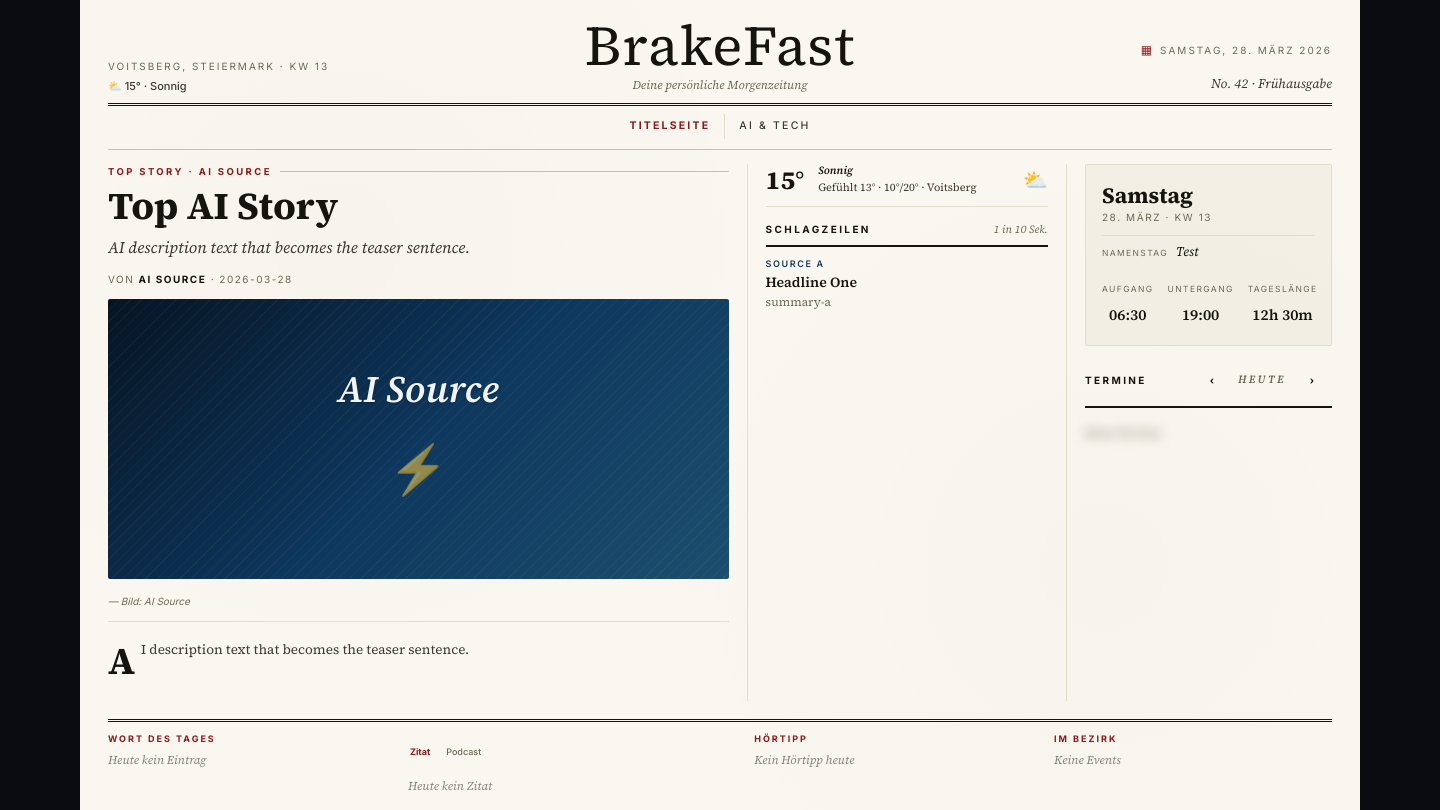
Test: EditorialFirstScreen › opens weather modal and closes on overlay click (PAR-03)
Step 1. Click the button with class "ed-weather-row" → (907, 186), box [766,164,1048,207]
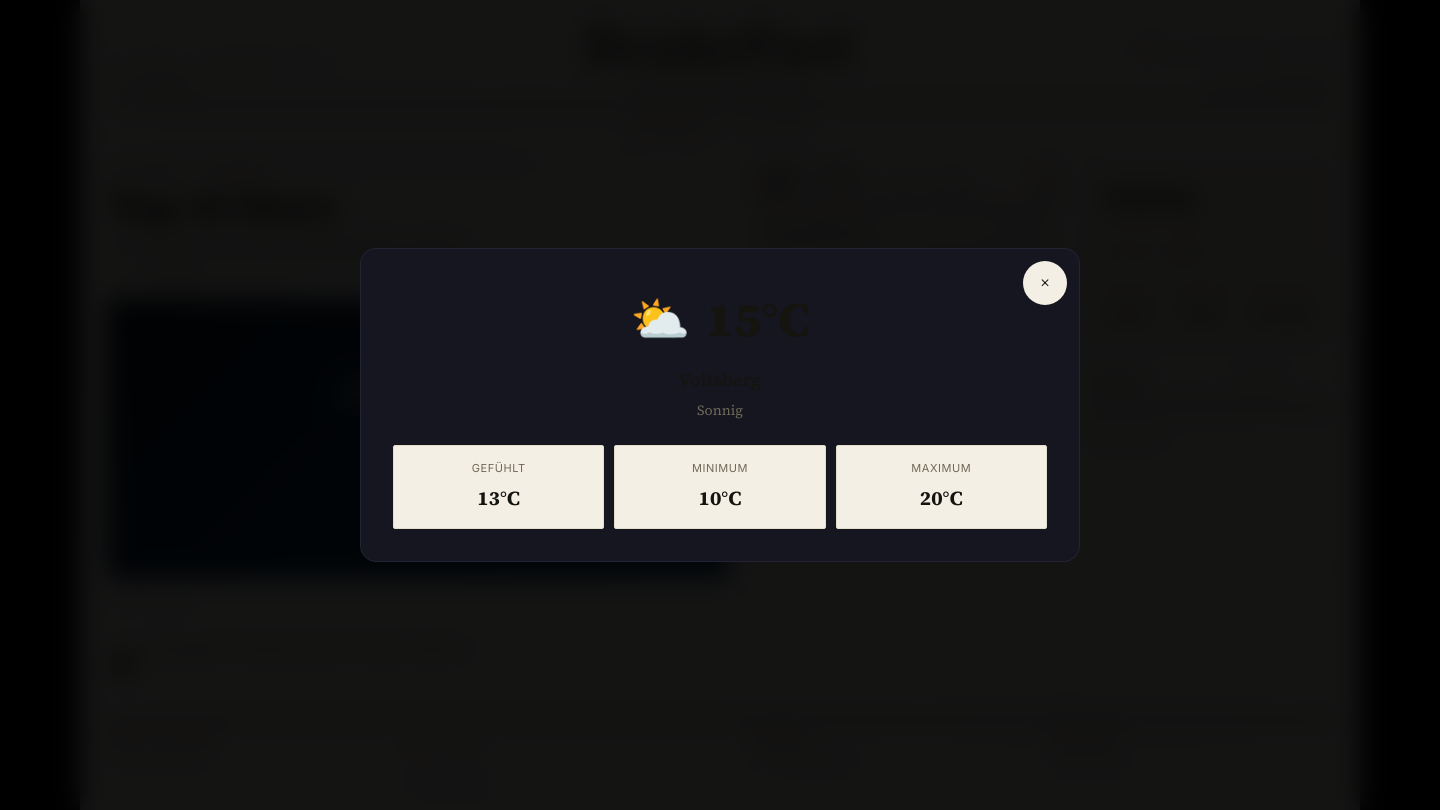
Check: the element with class "modal-overlay" is shown
Step 2. Click the element with class "modal-overlay" → (86, 405), box [0,0,1439,809]
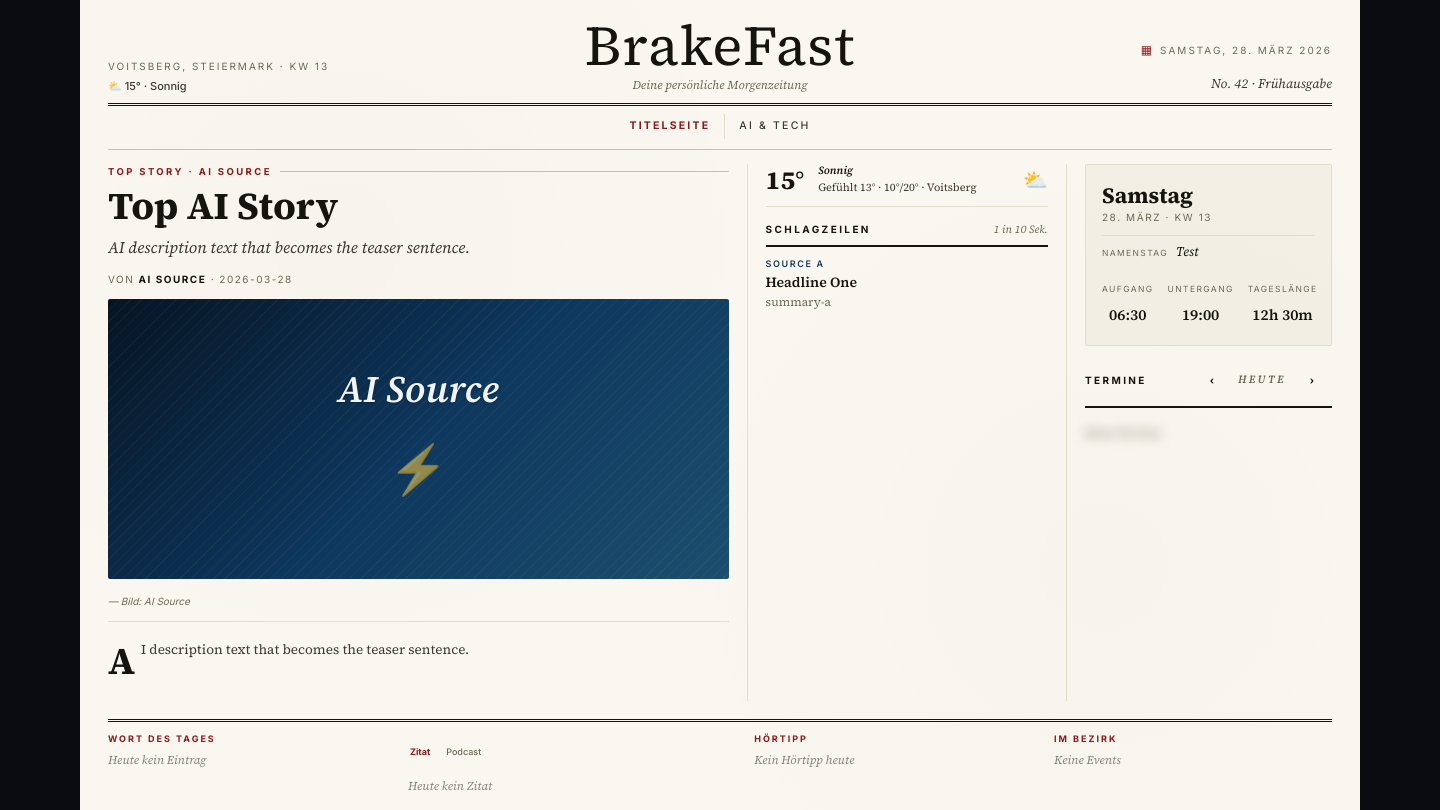
Check: the element with class "weather-modal" is gone
